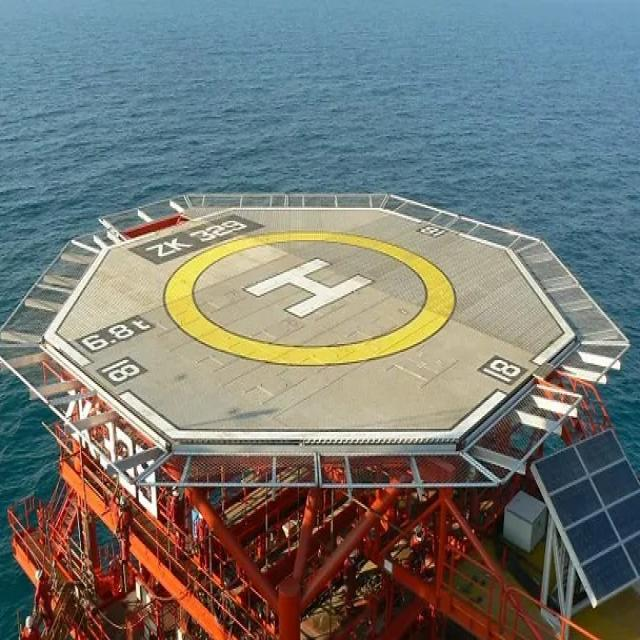helipad: (158, 227, 457, 370)
